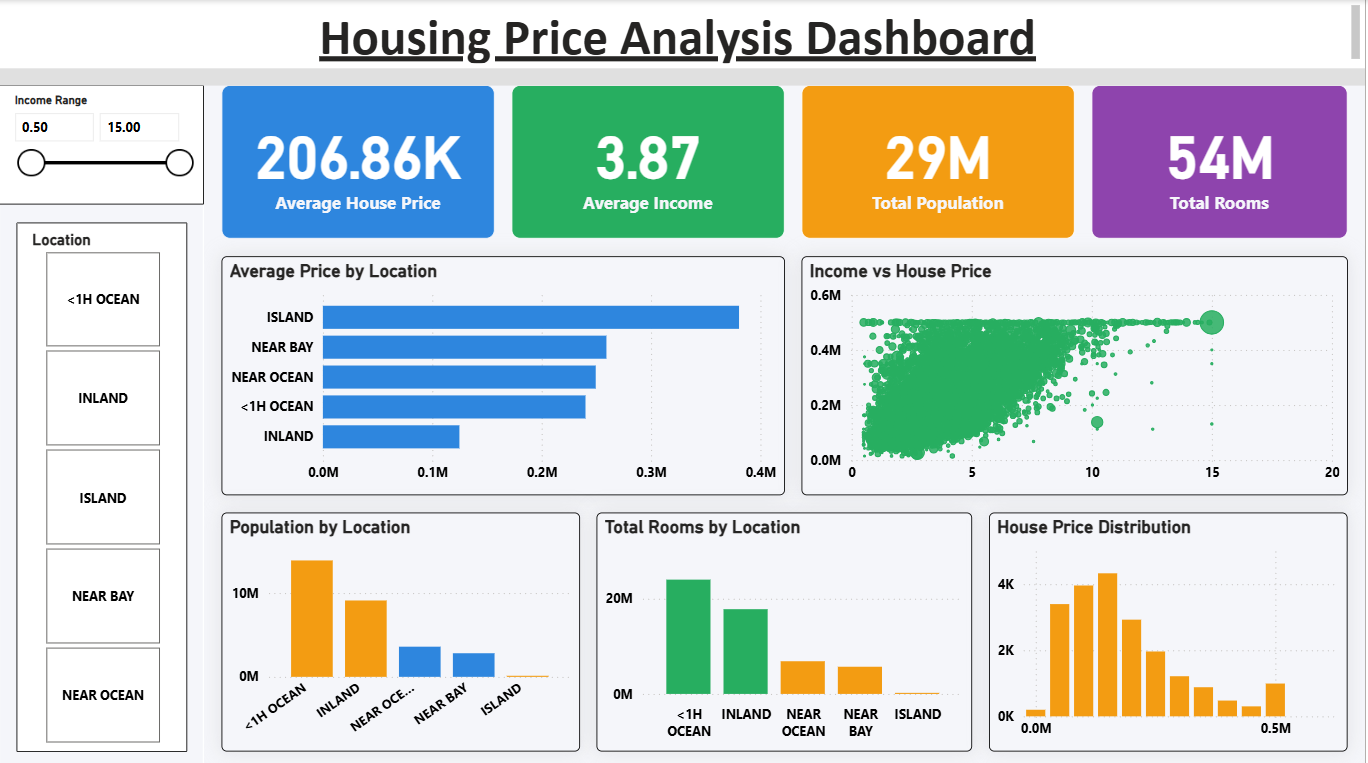

This screenshot's page, from the dashboard's own definition file:
{"tool":"powerbi","page":{"name":"Housing Price Analysis Dashboard","canvas":[1280,720],"ordinal":0},"visuals":[{"type":"card","title":"Average House Price","fields":{"Values":["cleaned_housing.Avg_HousePrice"]},"box":[208,80,256,144],"z":0},{"type":"card","title":"Average House Price","fields":{"Values":["cleaned_housing.Average Income"]},"box":[480,80,256,144],"z":1000},{"type":"card","title":"Average House Price","fields":{"Values":["cleaned_housing.Total Population"]},"box":[752,80,256,144],"z":2000},{"type":"card","title":"Average House Price","fields":{"Values":["cleaned_housing.Total Rooms"]},"box":[1024,80,240,144],"z":3000},{"type":"barChart","title":"Average Price by Location","fields":{"Category":["cleaned_housing.ocean_proximity"],"Y":["Avg(cleaned_housing.median_house_value)"]},"box":[208,240,528,224],"z":4000},{"type":"scatterChart","title":"Income vs House Price","fields":{"X":["cleaned_housing.median_income"],"Y":["cleaned_housing.median_house_value"],"Size":["Sum(cleaned_housing.population)"]},"box":[752,240,512,224],"z":5000},{"type":"columnChart","title":"Population by Location","fields":{"Category":["cleaned_housing.ocean_proximity"],"Y":["Sum(cleaned_housing.population)"]},"box":[208,480,336,224],"z":6000},{"type":"columnChart","title":"Total Rooms by Location","fields":{"Category":["cleaned_housing.ocean_proximity"],"Y":["Sum(cleaned_housing.total_rooms)"]},"box":[560,480,352,224],"z":7000},{"type":"columnChart","title":"House Price Distribution","fields":{"Category":["cleaned_housing.median_house_value (bins)"],"Y":["CountNonNull(cleaned_housing.median_house_value)"]},"box":[928,480,336,224],"z":8000},{"type":"shape","box":[0,80,192,640],"z":9000},{"type":"slicer","fields":{"Values":["cleaned_housing.ocean_proximity"]},"box":[16,208,160,496],"z":10000},{"type":"slicer","fields":{"Values":["cleaned_housing.median_income"]},"box":[0,80,192,112],"z":11000},{"type":"shape","box":[0,0,1280,80],"z":12000},{"type":"textbox","box":[0,0,1280,64],"z":13000}]}

Visuals, with their boxes in screenshot pixels (x1, y1, x2, y2), scaled from the page's 1280x720 canvas onto the 1368x763 screenshot:
"Average House Price" card: <bbox>222, 85, 496, 237</bbox>
"Average House Price" card: <bbox>513, 85, 787, 237</bbox>
"Average House Price" card: <bbox>804, 85, 1077, 237</bbox>
"Average House Price" card: <bbox>1094, 85, 1351, 237</bbox>
"Average Price by Location" barChart: <bbox>222, 254, 787, 492</bbox>
"Income vs House Price" scatterChart: <bbox>804, 254, 1351, 492</bbox>
"Population by Location" columnChart: <bbox>222, 509, 581, 746</bbox>
"Total Rooms by Location" columnChart: <bbox>598, 509, 975, 746</bbox>
"House Price Distribution" columnChart: <bbox>992, 509, 1351, 746</bbox>
shape: <bbox>0, 85, 205, 762</bbox>
slicer - cleaned_housing.ocean_proximity: <bbox>17, 220, 188, 746</bbox>
slicer - cleaned_housing.median_income: <bbox>0, 85, 205, 203</bbox>
shape: <bbox>0, 0, 1367, 85</bbox>
textbox: <bbox>0, 0, 1367, 68</bbox>
